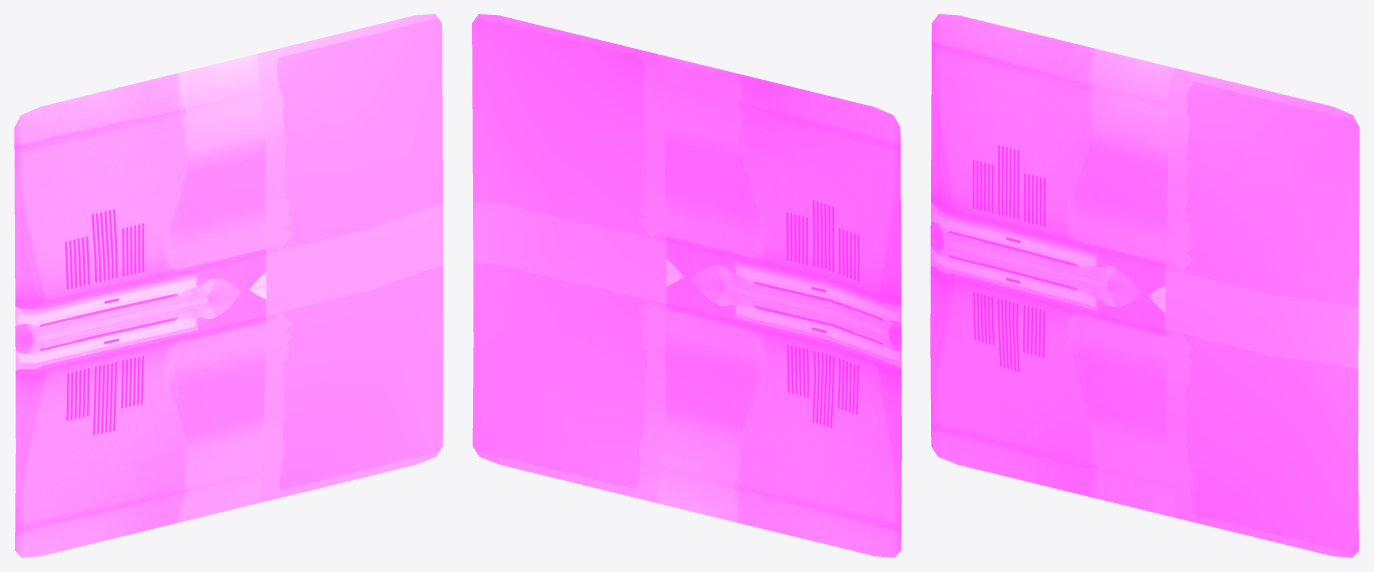
Rendered from Computer_Screen.glb.
3 renders of one model, left to right at view 1: azimuth 30°, elevation 25°; view 2: azimuth 150°, elevation 25°; view 3: azimuth 330°, elevation 25°, orthographic.
Visible parts, largest first — view 1: Computer_Screen; view 2: Computer_Screen; view 3: Computer_Screen.
Boxes of the visible parts, x1,y1,x2,y2 form: Computer_Screen: [14, 14, 443, 557]; Computer_Screen: [472, 14, 901, 557]; Computer_Screen: [930, 14, 1359, 557].
Size of the model in its own units: 7.41 by 7.44 by 0.2769.
1 material, 1 textured.
